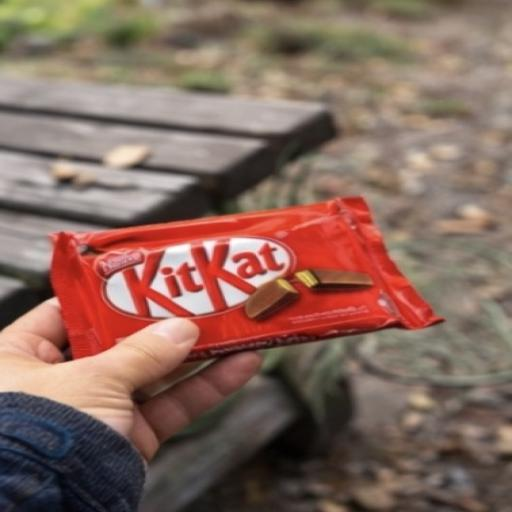kitkat: (27, 200, 472, 373)
